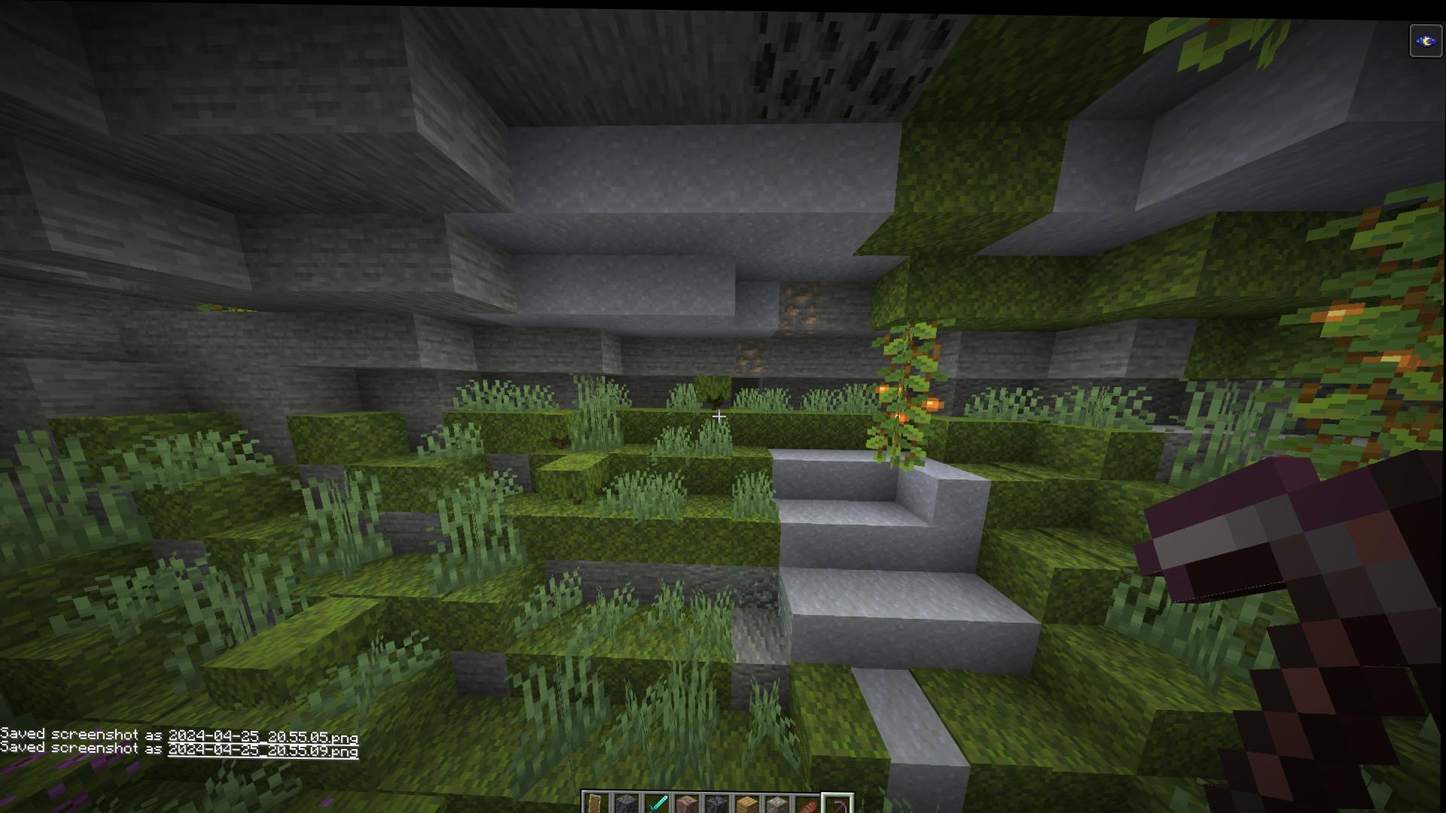iron ore: (778, 278, 823, 339), (736, 334, 767, 374)
